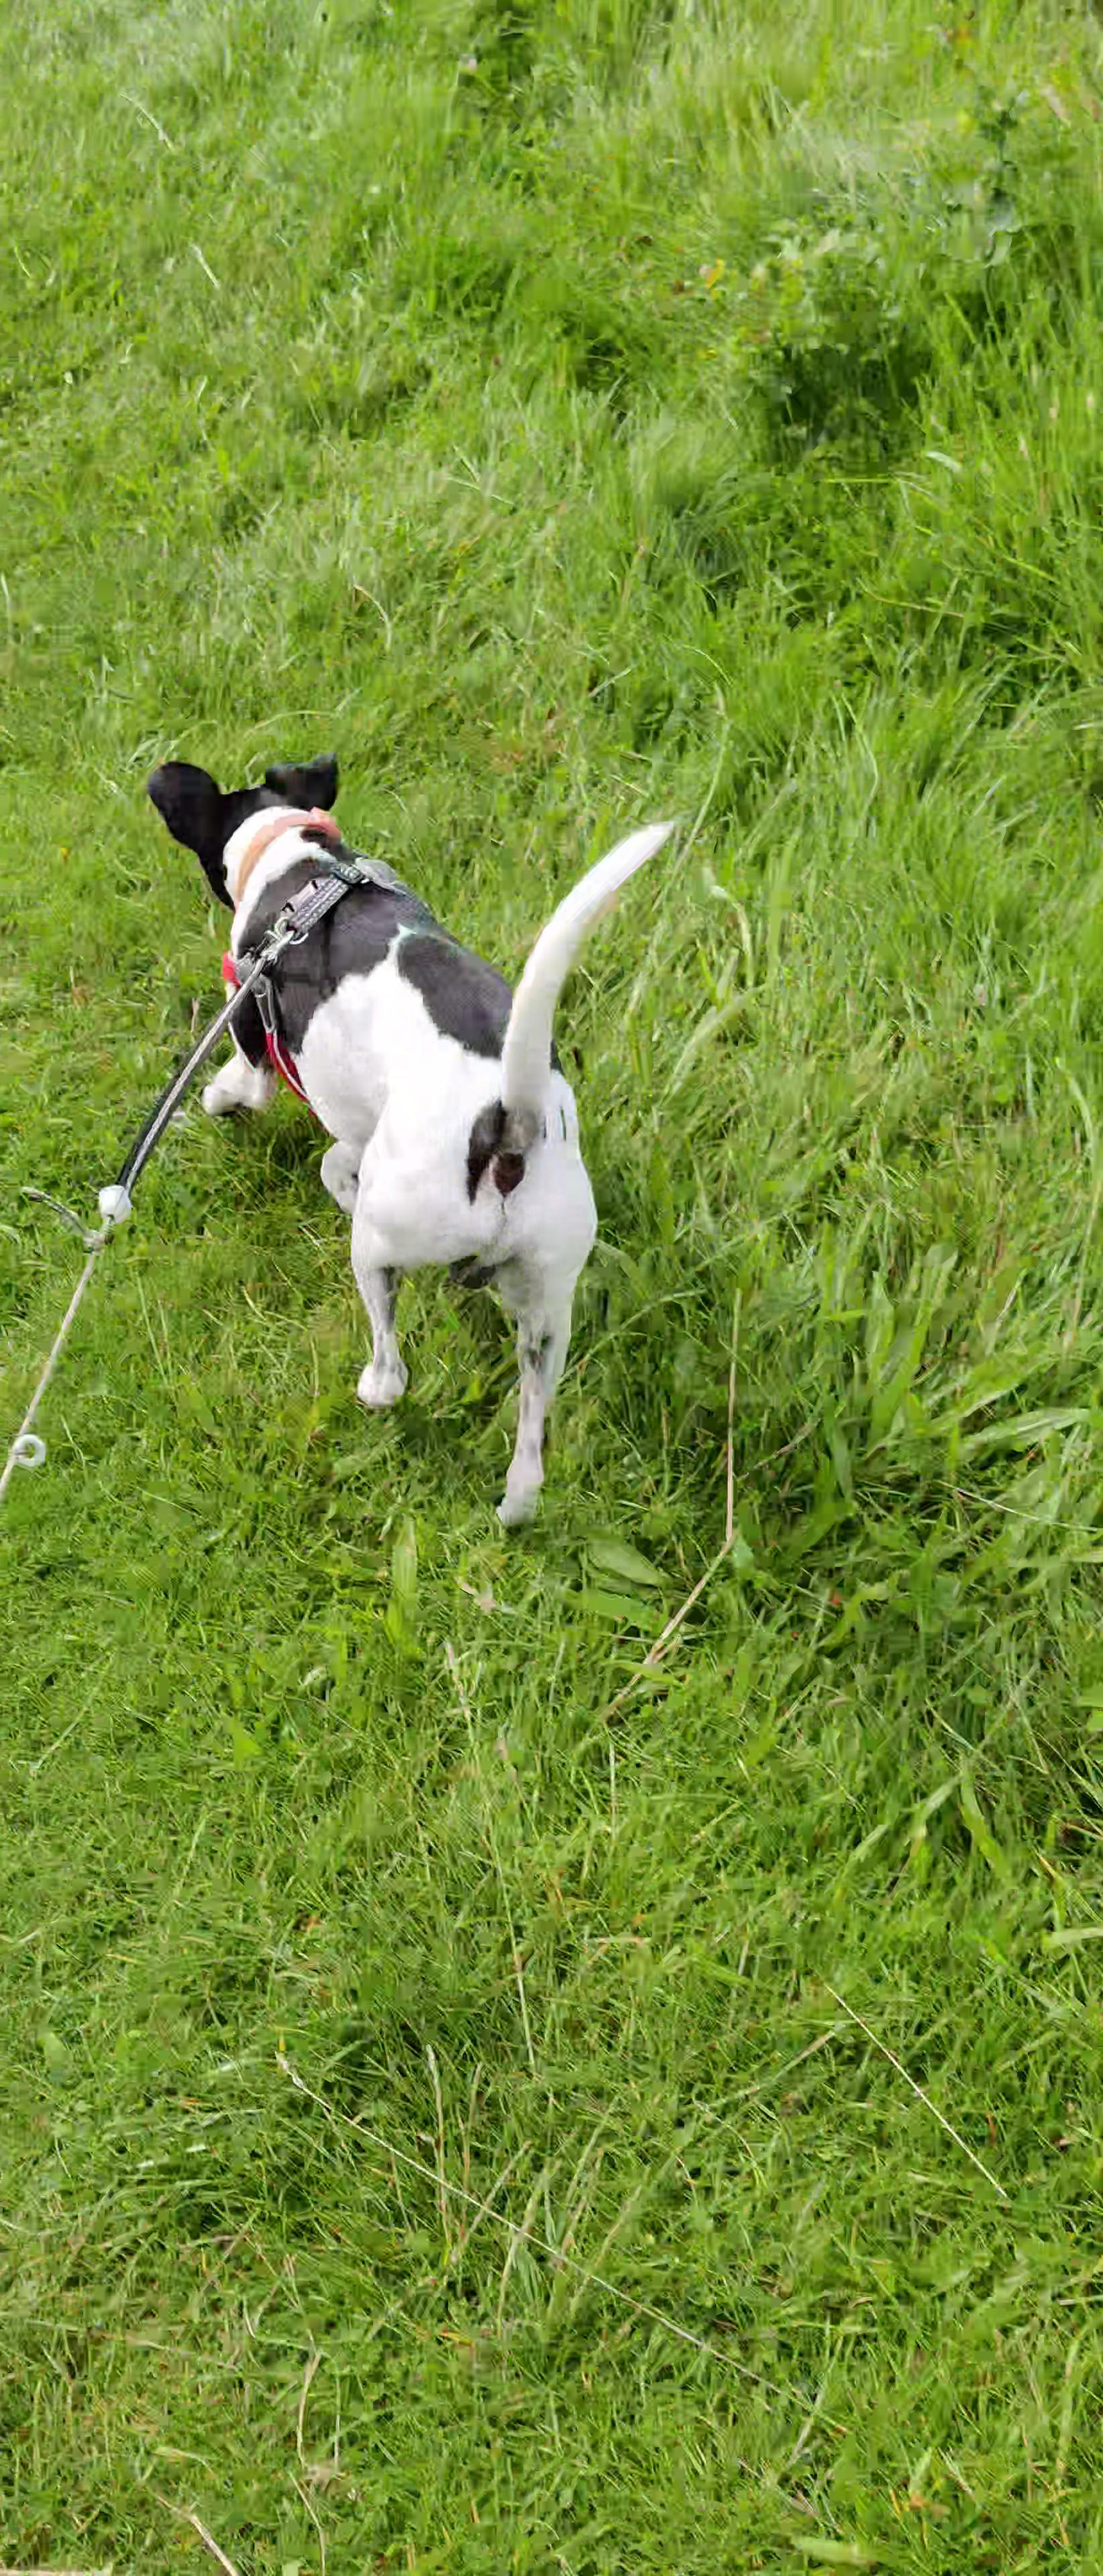Dog: (138, 751, 700, 1531)
